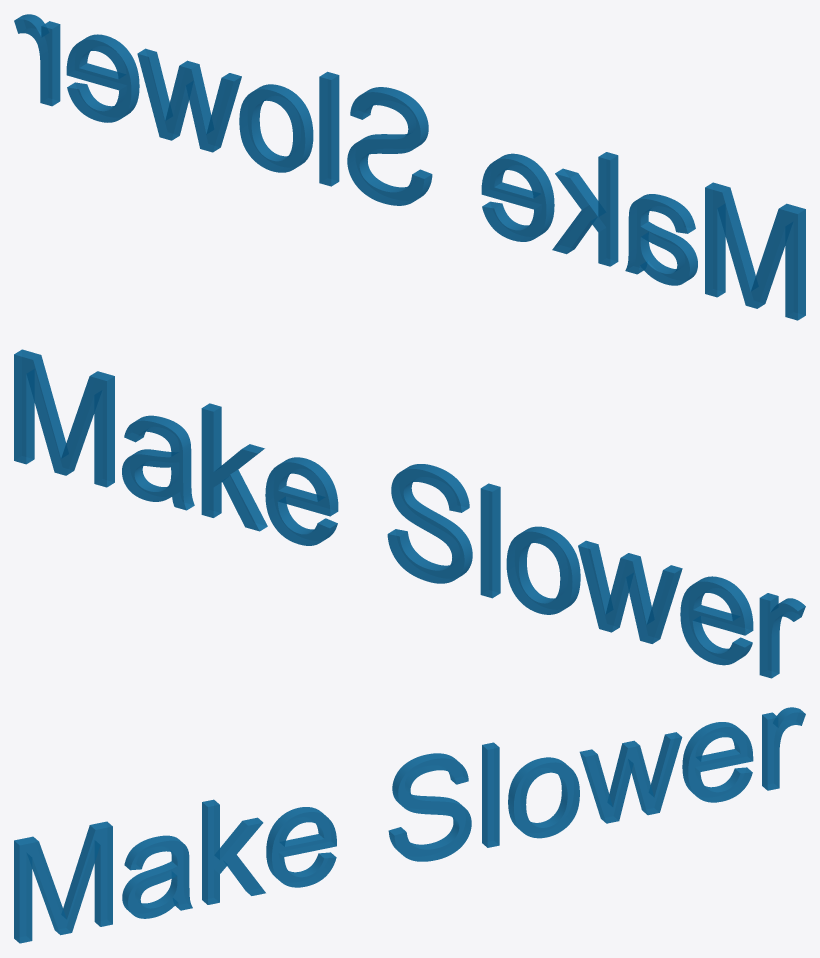
File: Make_slower.FBX
3 views of the same model, one above another, from view 1: azimuth 30°, elevation 25°; view 2: azimuth 210°, elevation 25°; view 3: azimuth 270°, elevation 25° (orthographic). The views are drawn at different scales.
Parts seen in each view (by area): view 1: TextPlus002; view 2: TextPlus002; view 3: TextPlus002.
Part boxes in pixels (x1,y1,x2,y2): TextPlus002: (14, 14, 805, 320); TextPlus002: (14, 349, 805, 678); TextPlus002: (14, 707, 805, 943).
Size of the model in its own units: 7.6 by 2.17 by 15.36.
